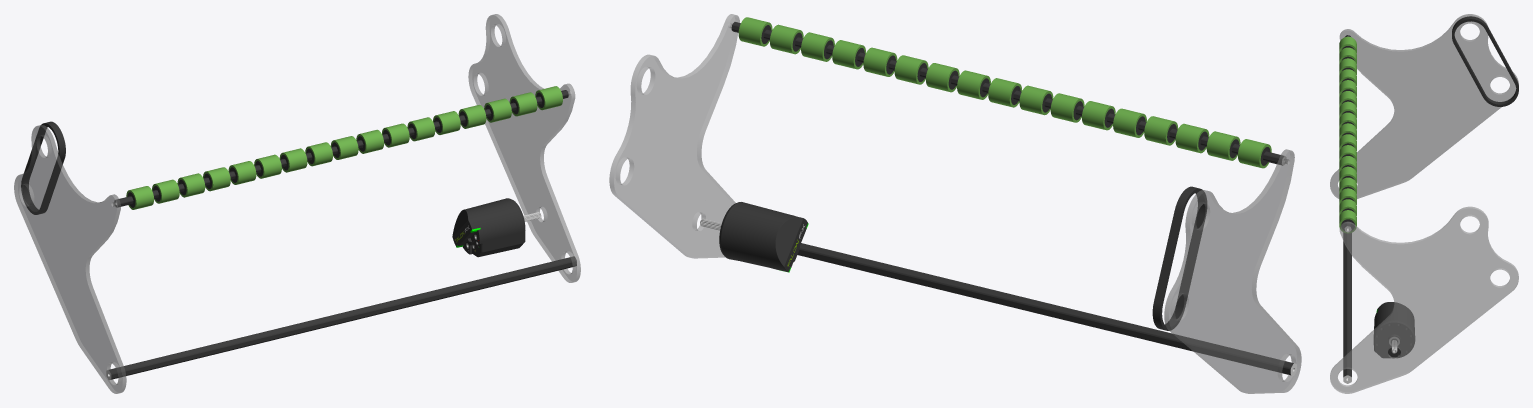
3 renders of one model, left to right at view 1: azimuth 30°, elevation 25°; view 2: azimuth 150°, elevation 25°; view 3: azimuth 270°, elevation 25°, orthographic. The views are drawn at different scales.
Parts seen in each view (by area): view 1: 02 - Placa Intake Motor (×2), Sushi Roller (35A, 3/8" Hex Bore) (×17), 1/2" Rounded Hex (26.433" L, 13.75mm OD), Kraken X60 Brushless Motor, 70t 5mm Belt, 3/8" Rounded Hex (25.567" L, 10.25mm OD); view 2: 02 - Placa Intake Motor (×2), Sushi Roller (35A, 3/8" Hex Bore) (×17), 1/2" Rounded Hex (26.433" L, 13.75mm OD), Kraken X60 Brushless Motor, 70t 5mm Belt, 3/8" Rounded Hex (25.567" L, 10.25mm OD); view 3: 02 - Placa Intake Motor (×2), Sushi Roller (35A, 3/8" Hex Bore) (×17), Kraken X60 Brushless Motor, 1/2" Rounded Hex (26.433" L, 13.75mm OD), 70t 5mm Belt.
Part boxes in pixels (box(x1,y1,x2,y2)): 02 - Placa Intake Motor (×2): box(14, 14, 580, 393); Sushi Roller (35A, 3/8" Hex Bore) (×17): box(126, 86, 562, 209); 1/2" Rounded Hex (26.433" L, 13.75mm OD): box(106, 256, 576, 380); Kraken X60 Brushless Motor: box(452, 198, 541, 257); 70t 5mm Belt: box(21, 121, 65, 214); 3/8" Rounded Hex (25.567" L, 10.25mm OD): box(114, 90, 568, 207); 02 - Placa Intake Motor (×2): box(609, 14, 1301, 393); Sushi Roller (35A, 3/8" Hex Bore) (×17): box(738, 17, 1271, 168); 1/2" Rounded Hex (26.433" L, 13.75mm OD): box(797, 243, 1296, 375); Kraken X60 Brushless Motor: box(700, 202, 808, 272); 70t 5mm Belt: box(1152, 186, 1206, 330); 3/8" Rounded Hex (25.567" L, 10.25mm OD): box(731, 22, 1286, 165); 02 - Placa Intake Motor (×2): box(1330, 14, 1518, 393); Sushi Roller (35A, 3/8" Hex Bore) (×17): box(1339, 36, 1356, 233); Kraken X60 Brushless Motor: box(1374, 302, 1414, 358); 1/2" Rounded Hex (26.433" L, 13.75mm OD): box(1343, 233, 1351, 383); 70t 5mm Belt: box(1452, 16, 1518, 106).
Bounding box in the file's own units: 0.6714 × 0.2953 × 0.2713.
